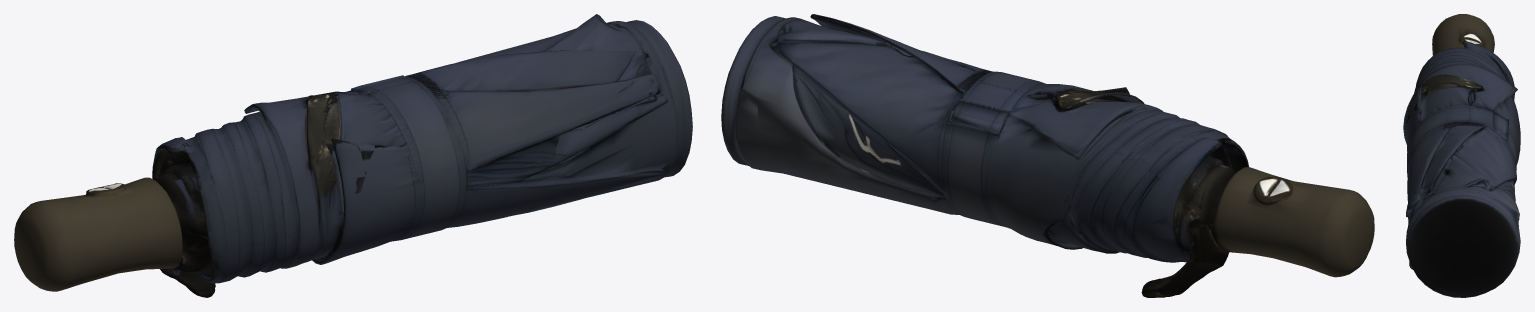
The model's file is umbrella.fbx.
The picture shows the model from 3 angles, left to right: view 1: azimuth 30°, elevation 25°; view 2: azimuth 150°, elevation 25°; view 3: azimuth 270°, elevation 25°; orthographic projection. The views are drawn at different scales.
Parts seen in each view (by area): view 1: mesh_rep_0_ori_repair; view 2: mesh_rep_0_ori_repair; view 3: mesh_rep_0_ori_repair.
Boxes of the visible parts, x1=… form: mesh_rep_0_ori_repair: x1=14, y1=14, x2=692, y2=297; mesh_rep_0_ori_repair: x1=721, y1=14, x2=1374, y2=297; mesh_rep_0_ori_repair: x1=1403, y1=14, x2=1520, y2=297.
Bounding box in the file's own units: 28.04 × 7.79 × 6.58.
Materials: 1 (1 with a texture image).
